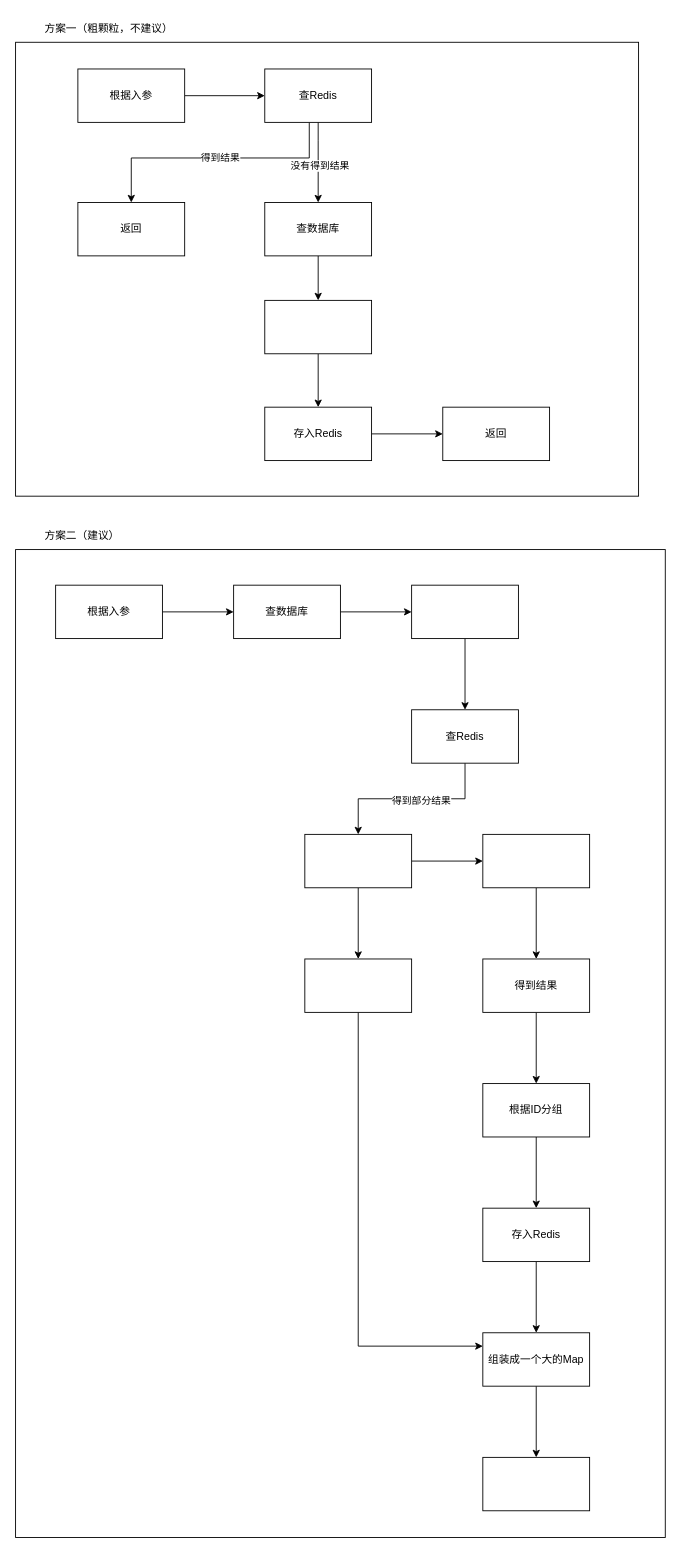
Some shapes in this 681 by 1553 pixel diagram are drawn without their labels. The shapes that lost their labels are listed below. From the top down, each one's centre as x and y in pixels, then its label:
(318,326): 得到返回结果
(464,611): 获取ID集合
(358,860): 过滤出Redis中没有命中的ID集合
(536,860): 批量查询数据库
(358,985): 根据ID分组的Map
(536,1483): 返回前端
